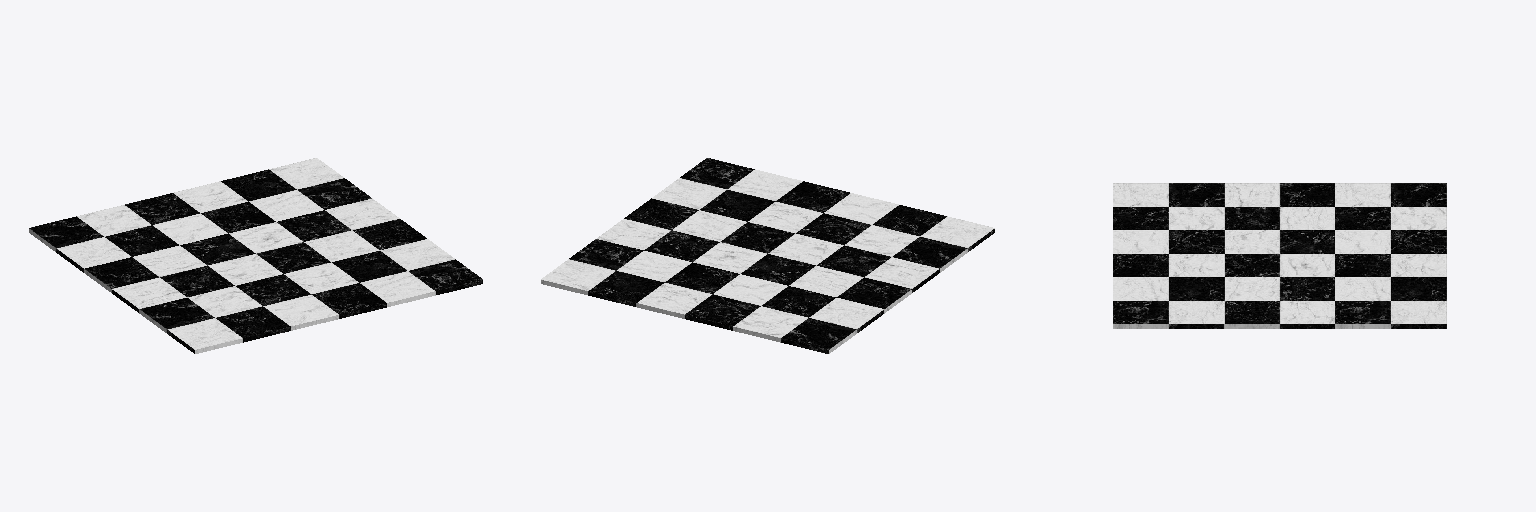
3 renders of one model, left to right at view 1: azimuth 30°, elevation 25°; view 2: azimuth 150°, elevation 25°; view 3: azimuth 270°, elevation 25°, orthographic.
Parts seen in each view (by area): view 1: Cube; view 2: Cube; view 3: Cube.
Part boxes in pixels (left/top/right/bottom): Cube: left=29, top=158, right=482, bottom=353; Cube: left=541, top=158, right=994, bottom=353; Cube: left=1113, top=183, right=1446, bottom=328.
Size of the model in its own units: 40 by 0.5863 by 40.
1 materials, 1 textured.